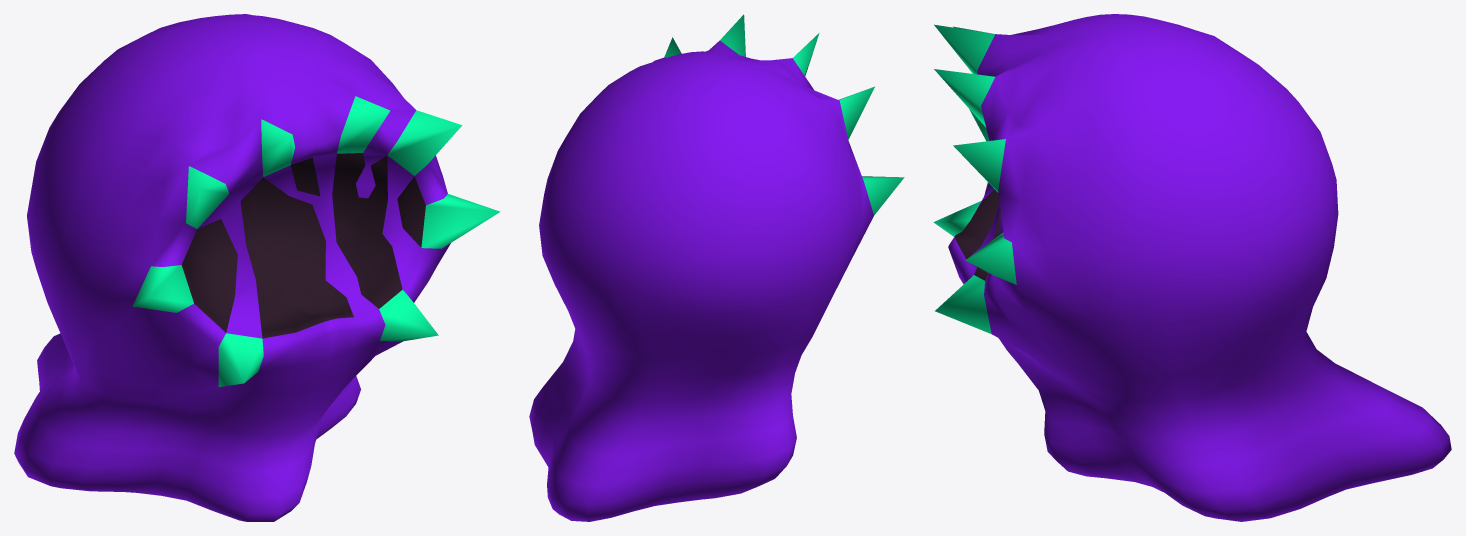
The model's file is SlimeMoving.fbx.
3 views of the same model, side by side, from view 1: azimuth 30°, elevation 25°; view 2: azimuth 150°, elevation 25°; view 3: azimuth 270°, elevation 25° (orthographic). The views are drawn at different scales.
Visible parts, largest first — view 1: Slime_Enemy_Mesh1; view 2: Slime_Enemy_Mesh1; view 3: Slime_Enemy_Mesh1.
Boxes of the visible parts, left/top/right/bottom form: Slime_Enemy_Mesh1: left=14, top=14, right=500, bottom=521; Slime_Enemy_Mesh1: left=529, top=14, right=904, bottom=521; Slime_Enemy_Mesh1: left=933, top=14, right=1451, bottom=521.
Bounding box in the file's own units: 83.38 × 105 × 112.
